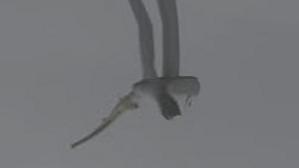faulty: (99, 64, 208, 127)
